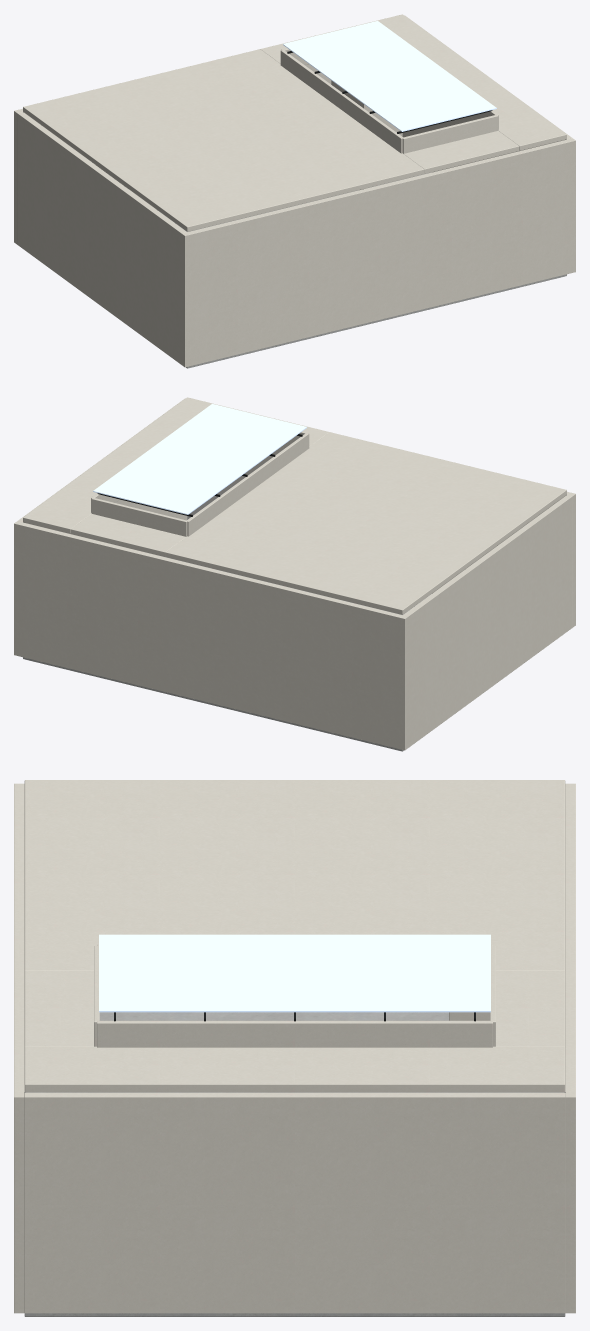
File: white-cube-desktop.glb
The picture shows the model from 3 angles, top to bottom: view 1: azimuth 30°, elevation 25°; view 2: azimuth 150°, elevation 25°; view 3: azimuth 270°, elevation 25°; orthographic projection. The views are drawn at different scales.
Parts seen in each view (by area): view 1: SHELL_south, OVERHEAD_Ceiling finish, SHELL_west, OVERHEAD_Rooflight diffuse sky, OVERHEAD_Mineral plaster, SHELL_Floor, SHELL_north, SHELL_east; view 2: SHELL_north, OVERHEAD_Ceiling finish, SHELL_west, OVERHEAD_Rooflight diffuse sky, OVERHEAD_Mineral plaster, SHELL_Floor, SHELL_south, SHELL_east; view 3: OVERHEAD_Ceiling finish, SHELL_east, OVERHEAD_Rooflight diffuse sky, OVERHEAD_Mineral plaster, SHELL_north, SHELL_south, SHELL_Floor.
Part boxes in pixels (<box>): SHELL_south: <box>181,138,575,367</box>; OVERHEAD_Ceiling finish: <box>23,14,566,231</box>; SHELL_west: <box>17,112,186,364</box>; OVERHEAD_Rooflight diffuse sky: <box>283,21,496,131</box>; OVERHEAD_Mineral plaster: <box>280,48,498,153</box>; SHELL_Floor: <box>159,172,566,368</box>; SHELL_north: <box>14,15,407,244</box>; SHELL_east: <box>402,18,572,172</box>; SHELL_north: <box>14,521,408,750</box>; OVERHEAD_Ceiling finish: <box>23,397,566,614</box>; SHELL_west: <box>403,495,572,747</box>; OVERHEAD_Rooflight diffuse sky: <box>93,404,306,514</box>; OVERHEAD_Mineral plaster: <box>91,431,309,536</box>; SHELL_Floor: <box>23,555,430,751</box>; SHELL_south: <box>182,398,575,627</box>; SHELL_east: <box>17,401,187,555</box>; OVERHEAD_Ceiling finish: <box>24,780,565,1092</box>; SHELL_east: <box>24,1092,565,1313</box>; OVERHEAD_Rooflight diffuse sky: <box>99,934,490,1012</box>; OVERHEAD_Mineral plaster: <box>94,944,495,1047</box>; SHELL_north: <box>565,783,575,1313</box>; SHELL_south: <box>14,783,24,1313</box>; SHELL_Floor: <box>24,1012,565,1316</box>.
Size of what is drawn, in the model's own units: 16.48 by 6.57 by 12.48.
Materials: 12 (8 with a texture image).
